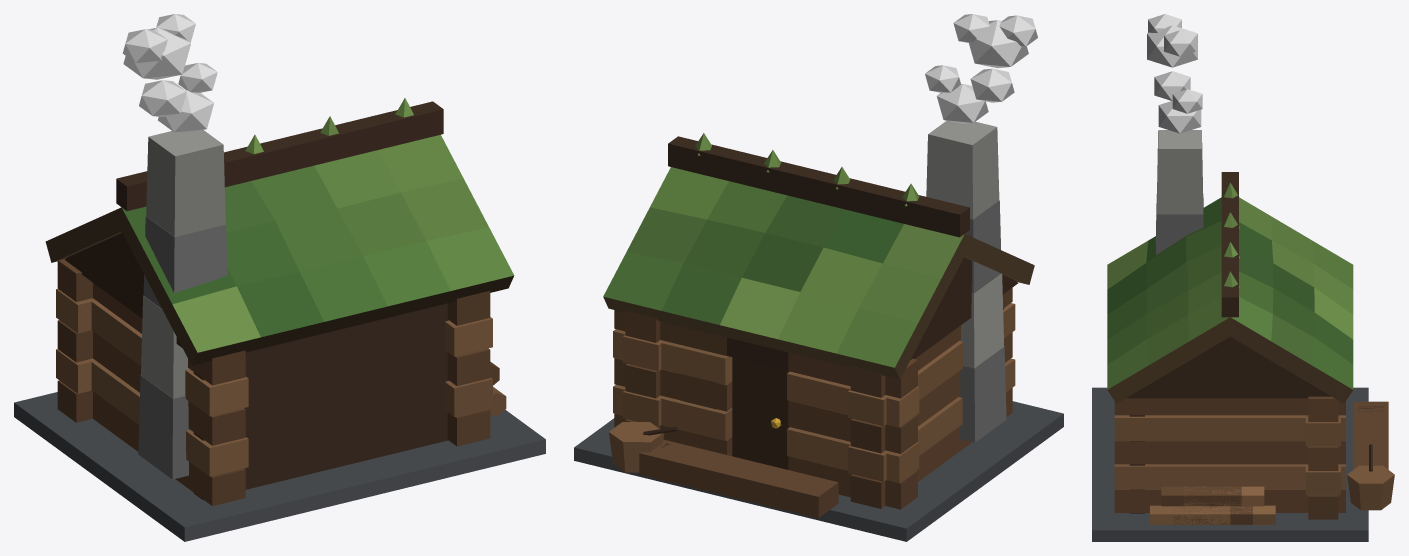
The model's file is Decor_VikingLonghouse_Sauna.fbx.
3 renders of one model, left to right at view 1: azimuth 30°, elevation 25°; view 2: azimuth 150°, elevation 25°; view 3: azimuth 270°, elevation 25°, orthographic. The views are drawn at different scales.
Visible parts, largest first — view 1: Sauna_Body; view 2: Sauna_Body; view 3: Sauna_Body.
Part boxes in pixels (<box>): Sauna_Body: <box>14,14,545,541</box>; Sauna_Body: <box>574,14,1063,541</box>; Sauna_Body: <box>1092,14,1394,541</box>.
Bounding box in the file's own units: 13.8 × 16.8 × 11.9.
